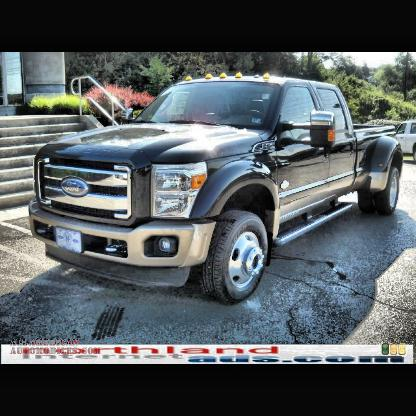Ford F-450 Super Duty Crew Cab 2012: (31, 71, 405, 307)
